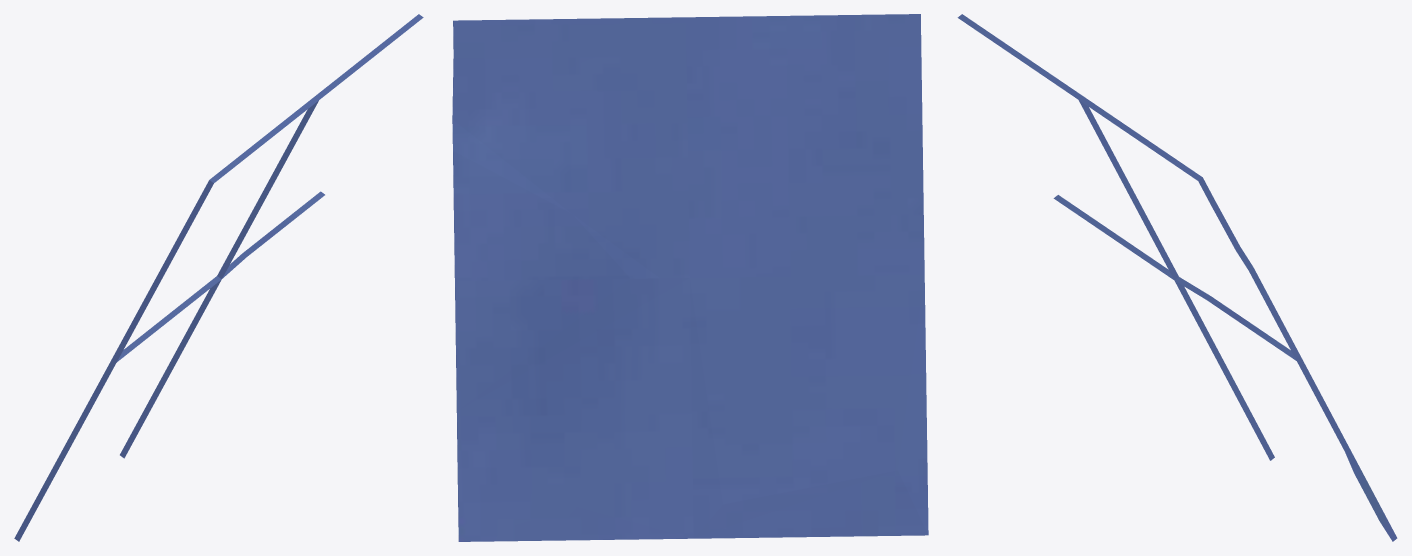
3 renders of one model, left to right at view 1: azimuth 30°, elevation 25°; view 2: azimuth 150°, elevation 25°; view 3: azimuth 270°, elevation 25°, orthographic. The views are drawn at different scales.
Size of the model in its own units: 19662 by 17661 by 16996.
Materials: 1 (1 with a texture image).
